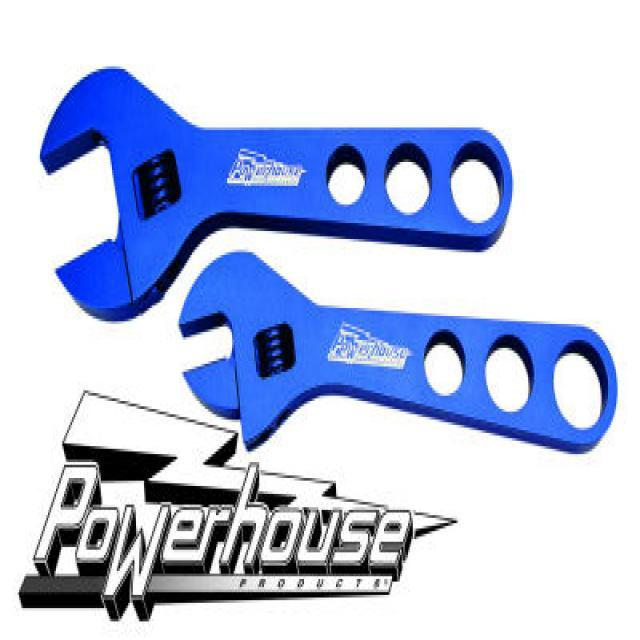wrench: (36, 61, 520, 332), (174, 242, 622, 456)
